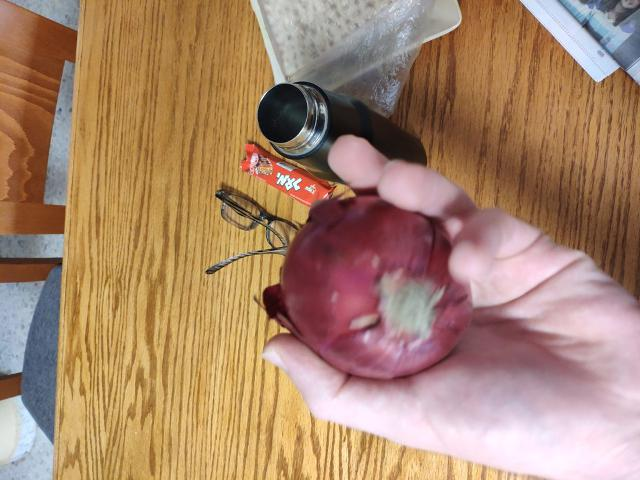onion: (289, 226, 489, 382)
